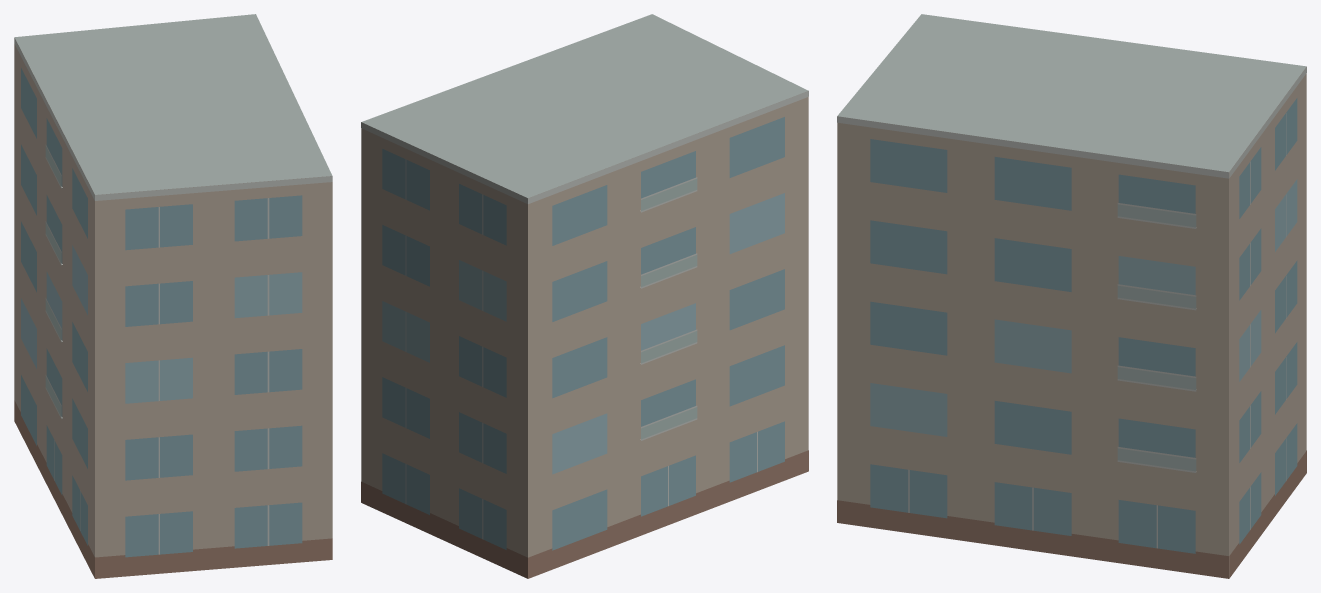
File: survey-upis-32769474.glb
3 views of the same model, side by side, from view 1: azimuth 30°, elevation 25°; view 2: azimuth 150°, elevation 25°; view 3: azimuth 270°, elevation 25° (orthographic). The views are drawn at different scales.
Visible parts, largest first — view 1: survey-upis-32769474.tmp; view 2: survey-upis-32769474.tmp; view 3: survey-upis-32769474.tmp.
Part boxes in pixels (box(x1,y1,x2,y2)): survey-upis-32769474.tmp: box(14, 14, 332, 578); survey-upis-32769474.tmp: box(361, 14, 808, 578); survey-upis-32769474.tmp: box(837, 14, 1306, 578).
Size of the model in its own units: 12.82 by 15.35 by 16.08.
